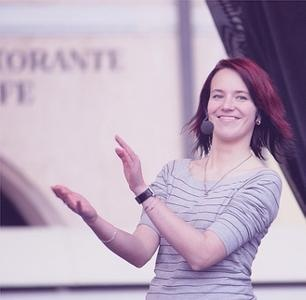person without safety: (137, 55, 298, 300)
